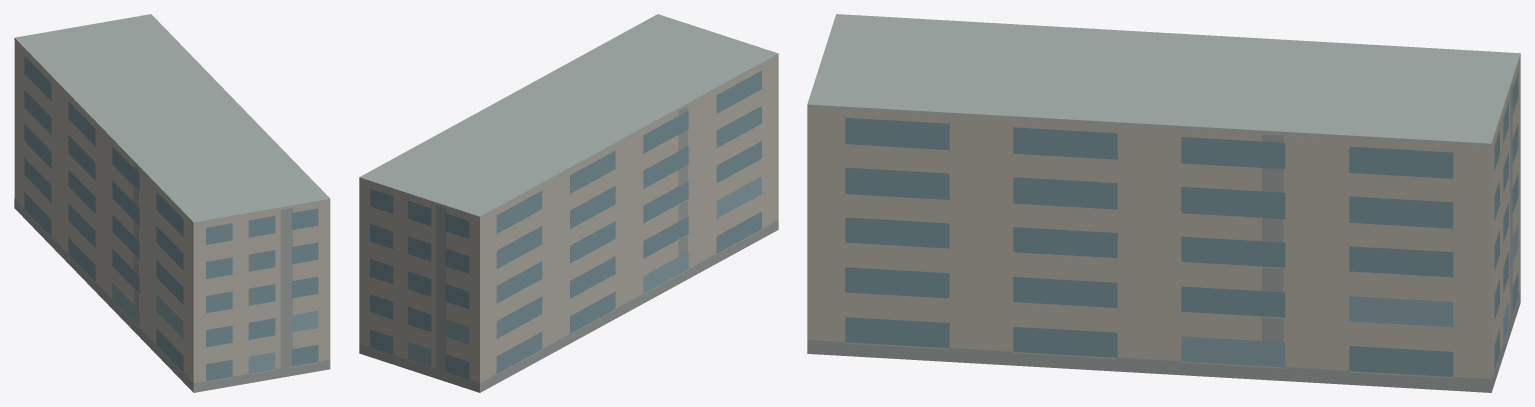
Rendered from residential-0cf08099-af66-47cd-9e7c-ce1a503f6017.glb.
3 renders of one model, left to right at view 1: azimuth 30°, elevation 25°; view 2: azimuth 150°, elevation 25°; view 3: azimuth 270°, elevation 25°, orthographic. The views are drawn at different scales.
Parts seen in each view (by area): view 1: residential-0cf08099-af66-47cd-9e7c-ce1a503f6017.tmp; view 2: residential-0cf08099-af66-47cd-9e7c-ce1a503f6017.tmp; view 3: residential-0cf08099-af66-47cd-9e7c-ce1a503f6017.tmp.
Boxes of the visible parts, x1,y1,x2,y2 form: residential-0cf08099-af66-47cd-9e7c-ce1a503f6017.tmp: (14, 14, 330, 392); residential-0cf08099-af66-47cd-9e7c-ce1a503f6017.tmp: (359, 14, 778, 392); residential-0cf08099-af66-47cd-9e7c-ce1a503f6017.tmp: (807, 14, 1520, 392).
Bounding box in the file's own units: 17.02 × 15.25 × 39.56.
